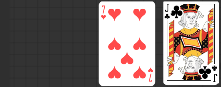7H: (101, 5, 108, 21)
JC: (164, 3, 171, 21)
